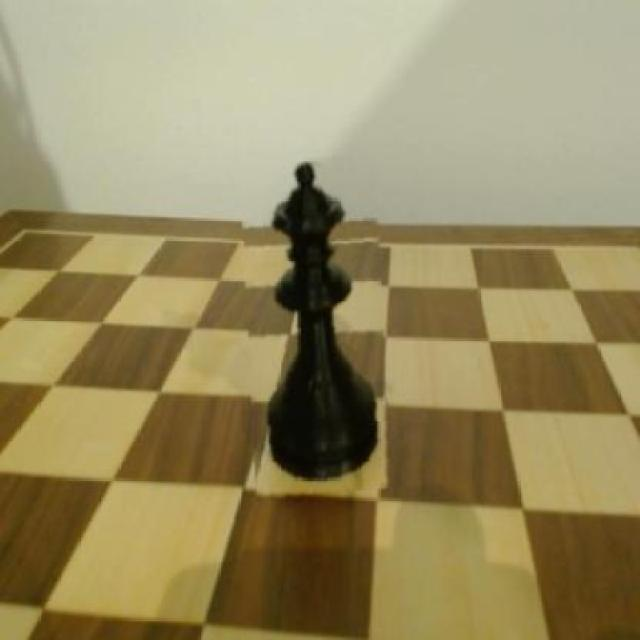black-pawn: (245, 157, 389, 498)
